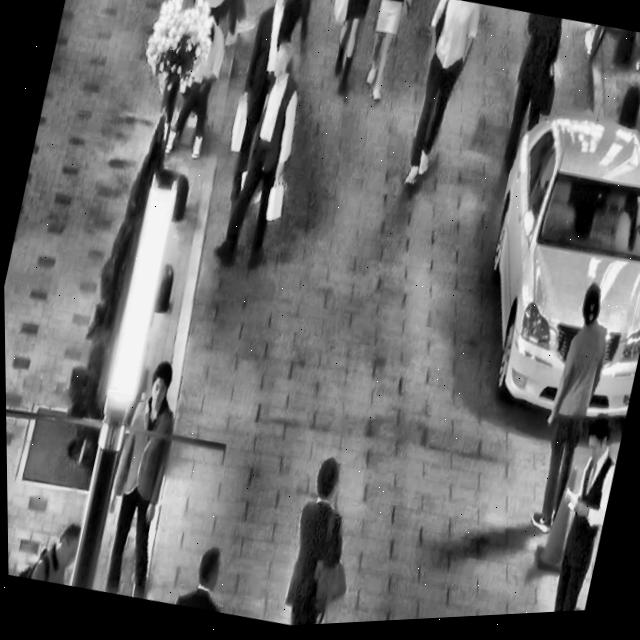light_vehicle: (448, 87, 640, 449)
